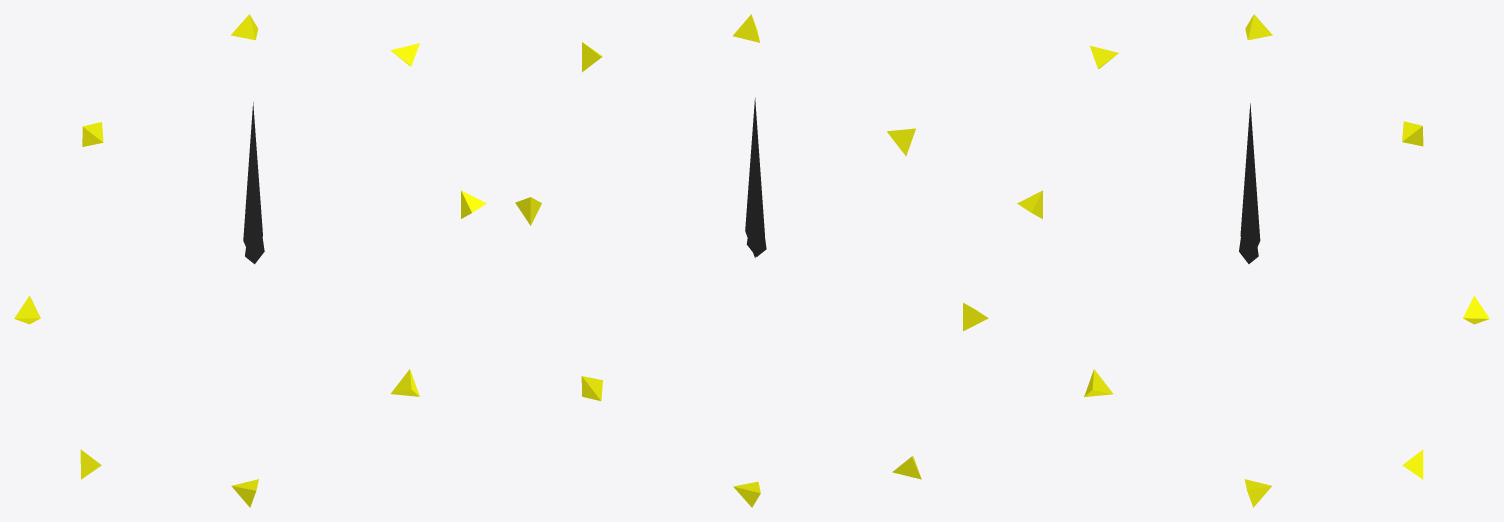
Rendered from uvmd-0240.glb.
3 views of the same model, side by side, from view 1: azimuth 30°, elevation 25°; view 2: azimuth 150°, elevation 25°; view 3: azimuth 330°, elevation 25° (orthographic).
Visible parts, largest first — view 1: uvmd-0240; view 2: uvmd-0240; view 3: uvmd-0240.
Boxes of the visible parts, box(x1,y1,x2,y2) form: uvmd-0240: box(14, 14, 486, 507); uvmd-0240: box(515, 14, 988, 507); uvmd-0240: box(1017, 14, 1489, 507).
Bounding box in the file's own units: 5615 × 5599 × 273.
Materials: 1 (1 with a texture image).
